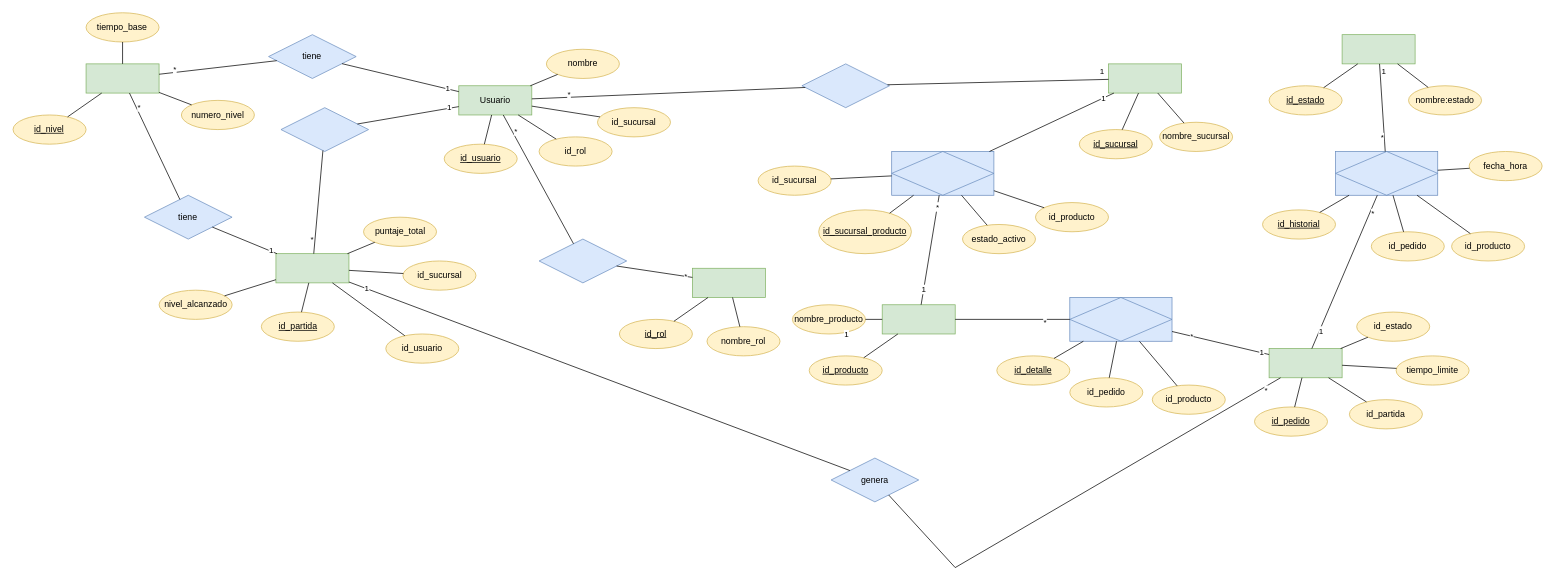
This 1555x581 diagram has some shape labels left out. Each missing label, with the centre of its shape:
"config_nivel" belongs at (122,78).
"detalle_pedido" belongs at (1120,319).
"estado" belongs at (1378,49).
"historial_estado" belongs at (1386,173).
"juega" belongs at (324,129).
"partida" belongs at (312,268).
"pedido" belongs at (1305,363).
"pertenece" belongs at (582,260).
"producto" belongs at (918,319).
"rol" belongs at (728,282).
"sucursal" belongs at (1145,78).
"sucursal_producto" belongs at (942,173).
"trabaja" belongs at (845,85).
